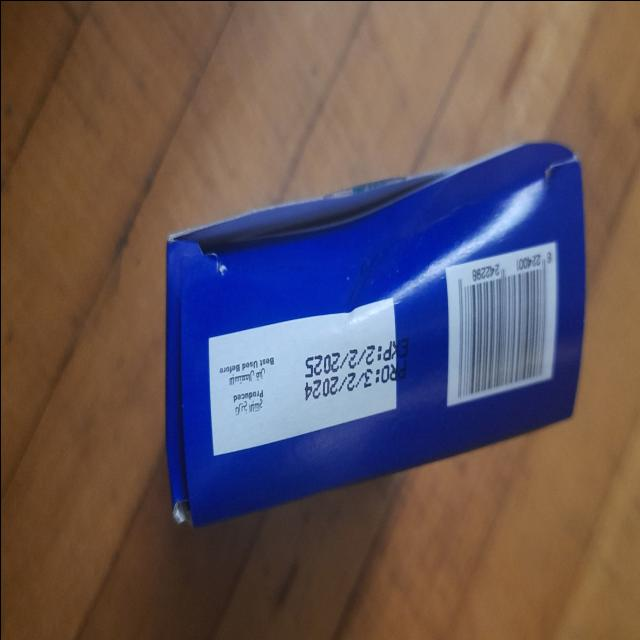cardboard: (127, 93, 626, 536)
